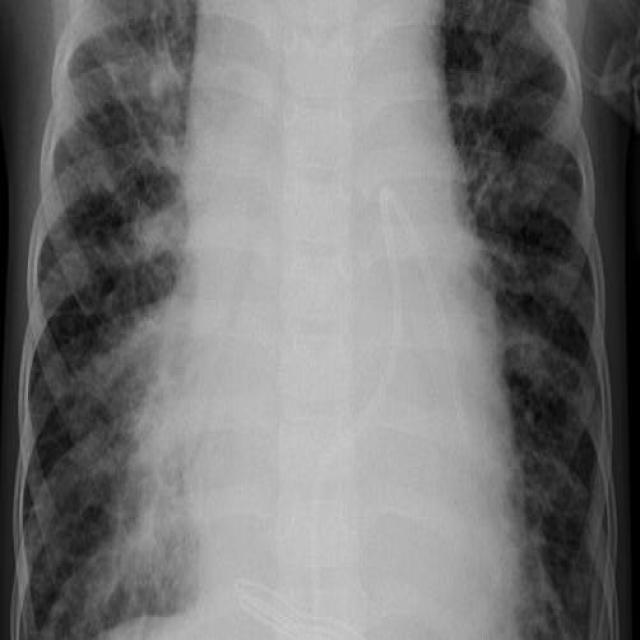low-pneumonia: (58, 316, 195, 622), (66, 7, 188, 205)
